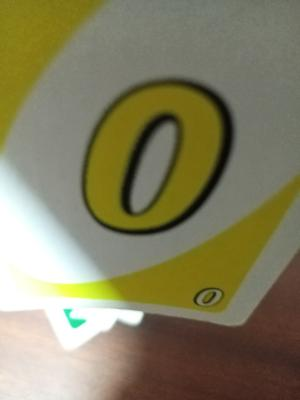num_0: (79, 52, 235, 250)
yellow: (185, 275, 229, 310)
